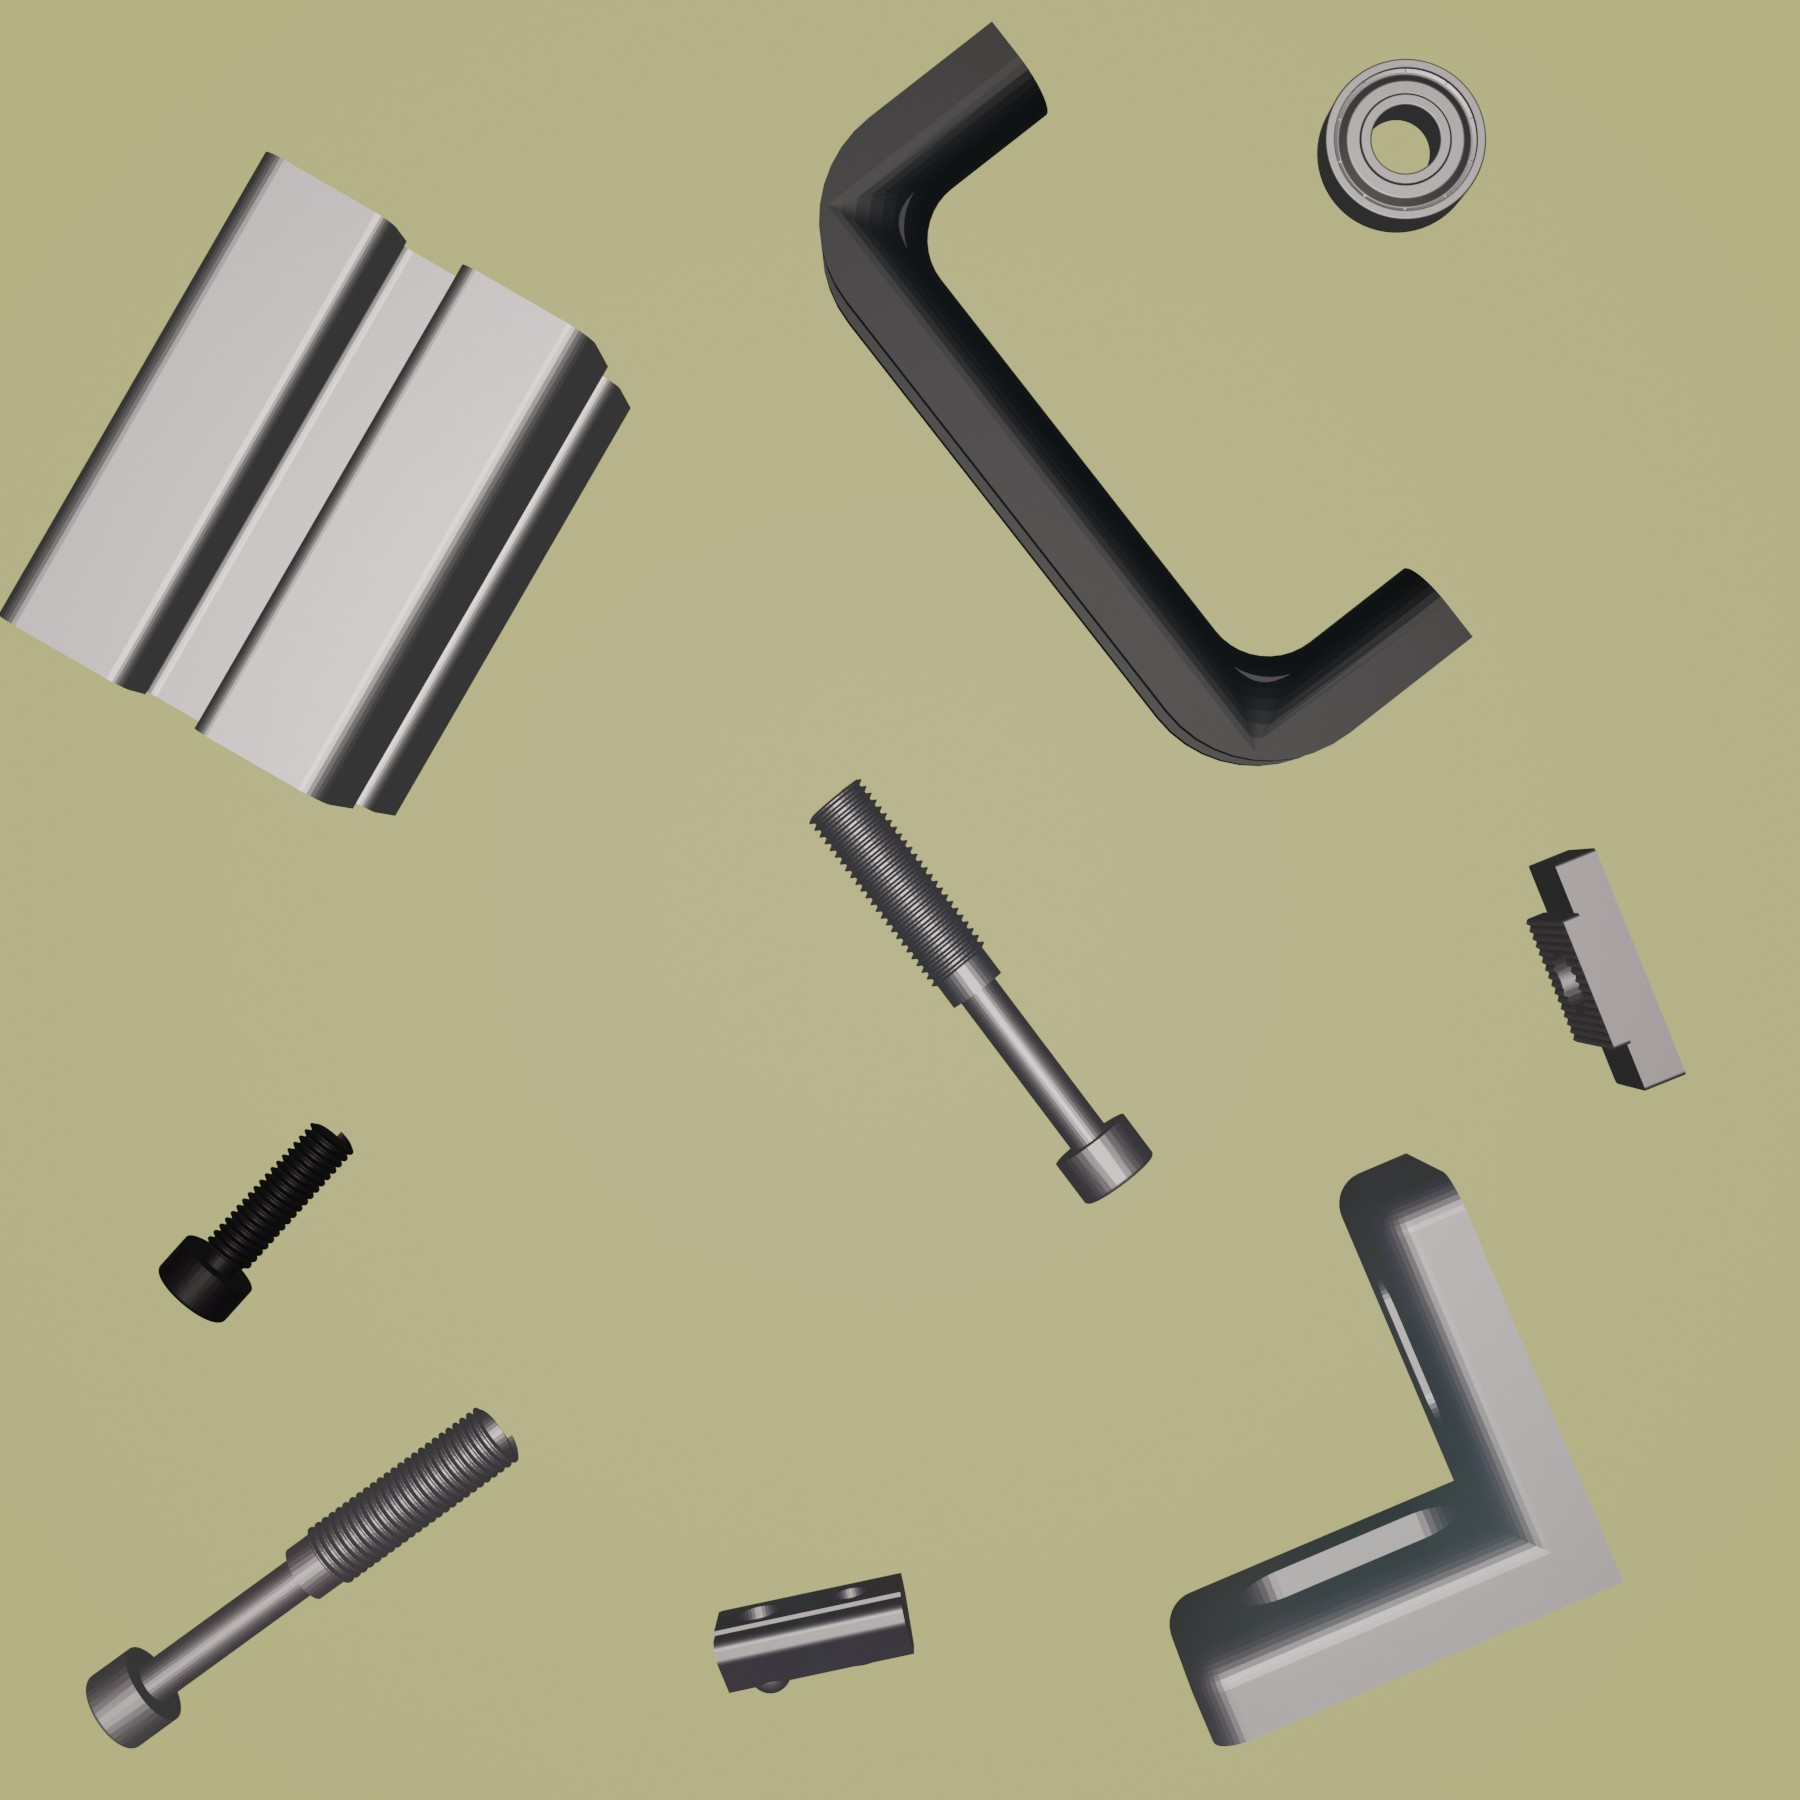Aluminium Extension: (2, 148, 633, 818)
Ball Bearing: (1315, 58, 1490, 234)
Multiwinkel: (1167, 1151, 1629, 1749)
Pull Handle: (816, 20, 1474, 768)
Shoulder Socket Head Cap Screw: (86, 1404, 521, 1751), (804, 778, 1154, 1207)
Socket Head Cap Screw: (158, 1118, 356, 1324)
T Nut Square: (1525, 846, 1690, 1096)
T Spring Nut: (714, 1568, 920, 1696)
